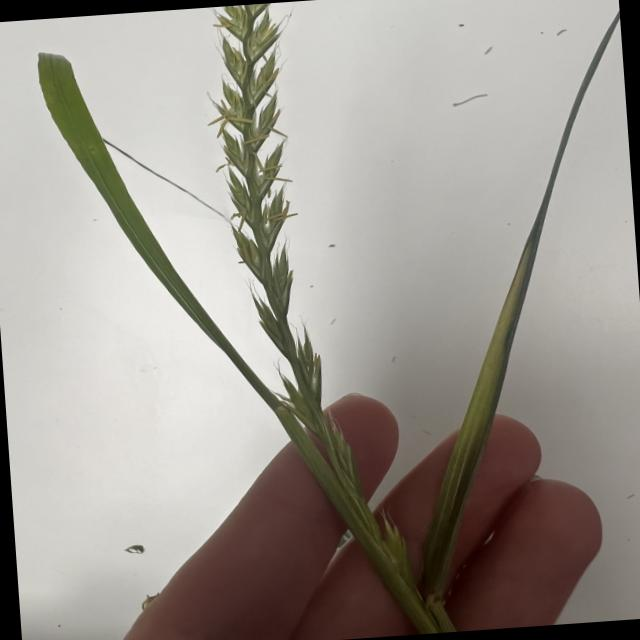Lolium: (207, 1, 341, 438)
